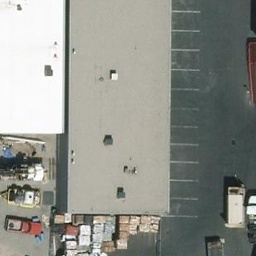car: (3, 213, 42, 238)
